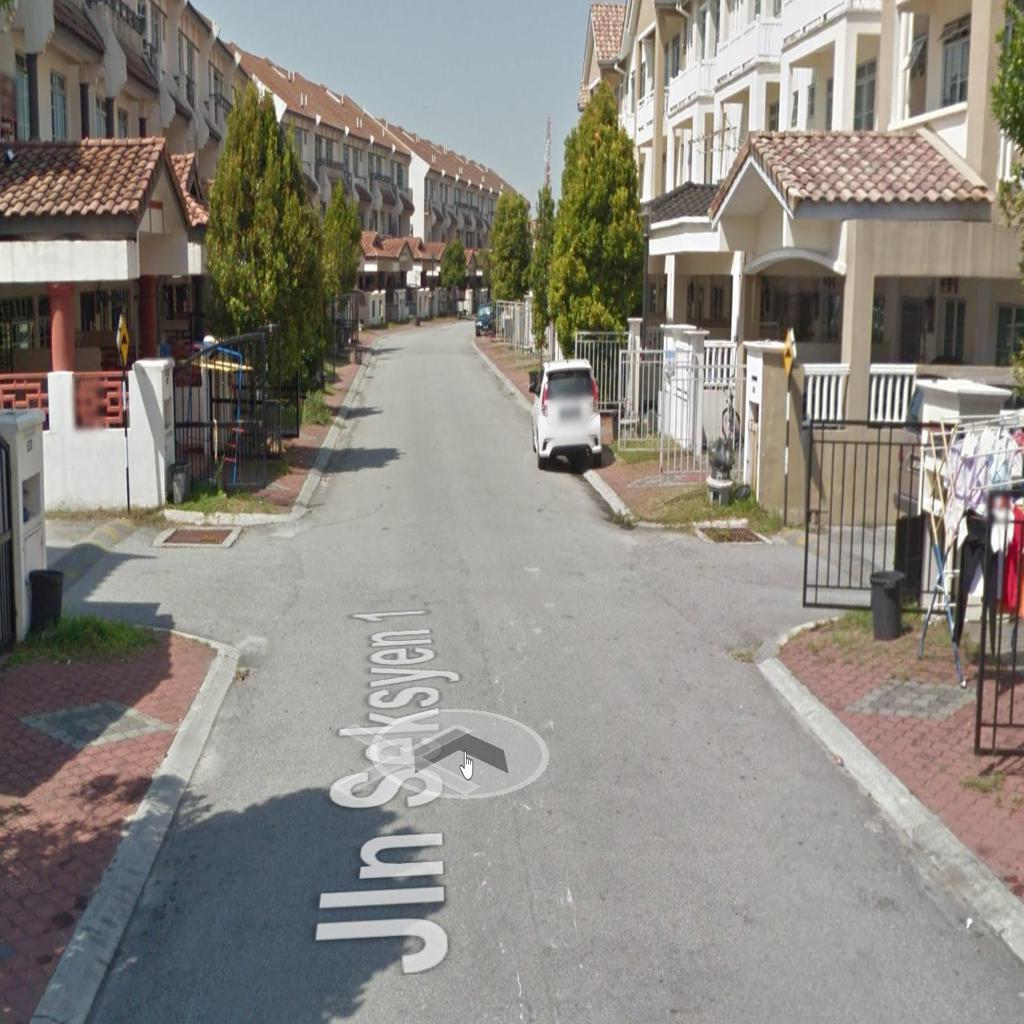Junction: (596, 475, 915, 695), (42, 476, 359, 668)
